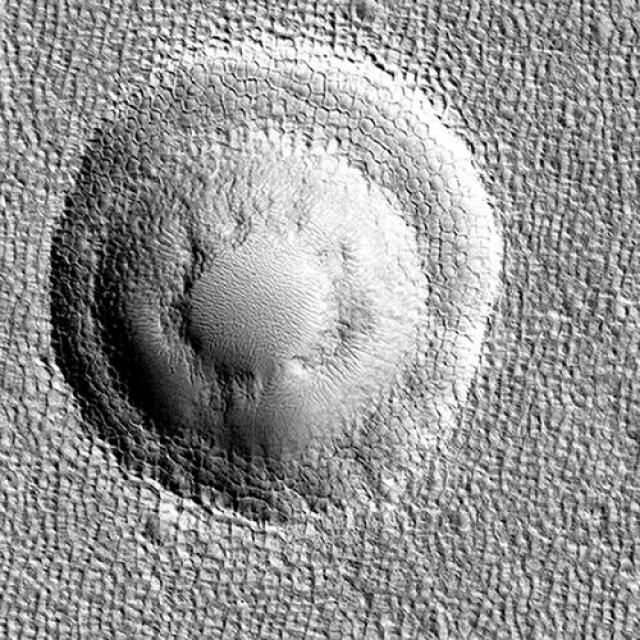crater: (48, 40, 514, 536), (0, 0, 38, 32)
